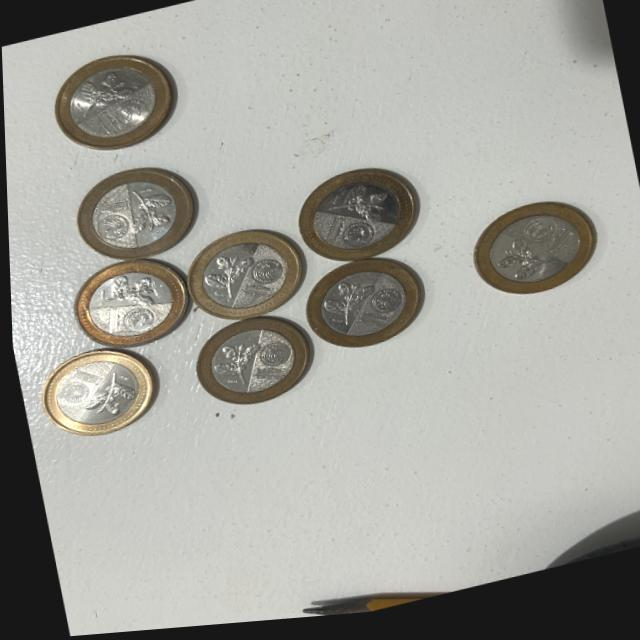20_New_Back: (484, 235, 564, 297), (318, 281, 377, 338), (73, 370, 135, 424), (317, 190, 386, 236), (72, 69, 132, 121), (123, 186, 176, 244), (94, 268, 155, 314), (205, 343, 260, 393), (198, 257, 244, 308)
